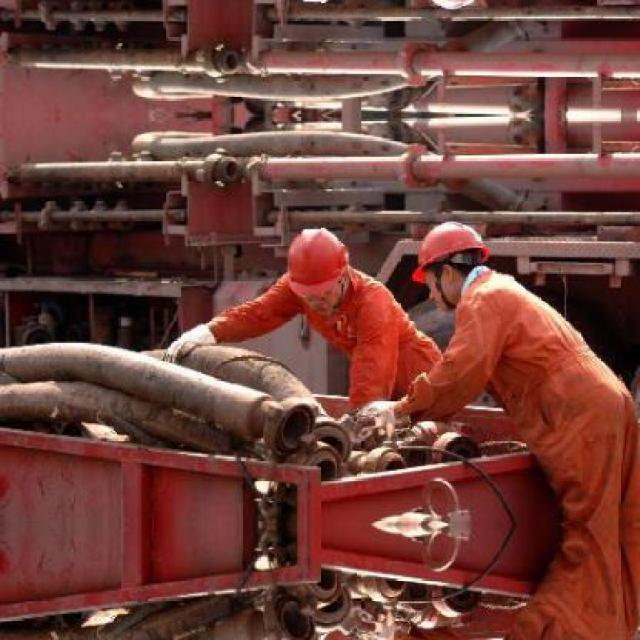helmet: (408, 214, 490, 297), (278, 226, 353, 303)
